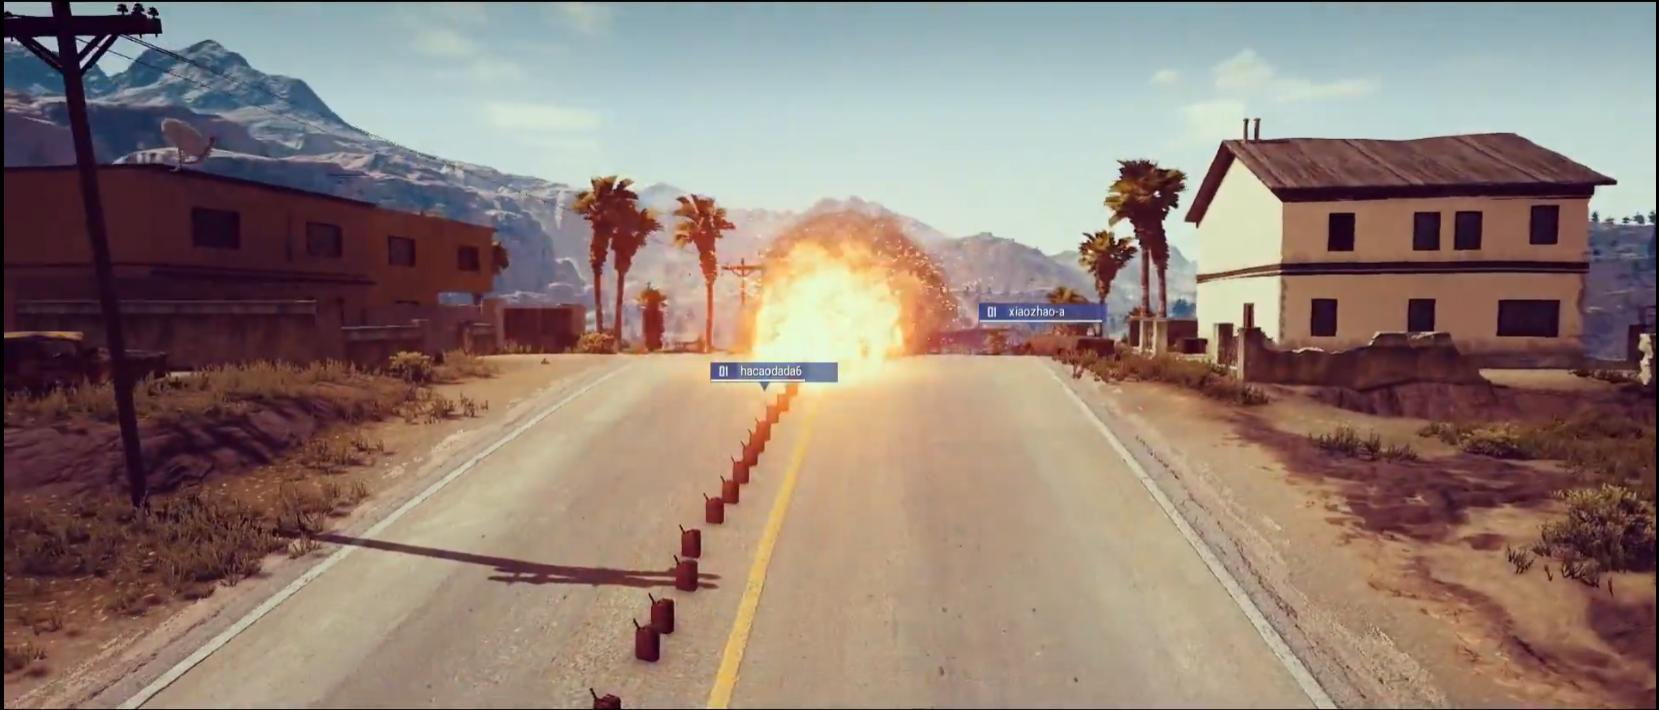fire: (732, 178, 956, 385)
